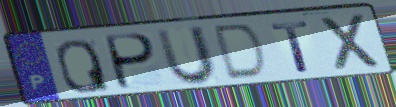D: (213, 21, 269, 83)
P: (105, 32, 160, 92)
Q: (53, 38, 113, 95)
T: (268, 19, 314, 75)
U: (153, 24, 220, 88)
X: (316, 11, 385, 74)
